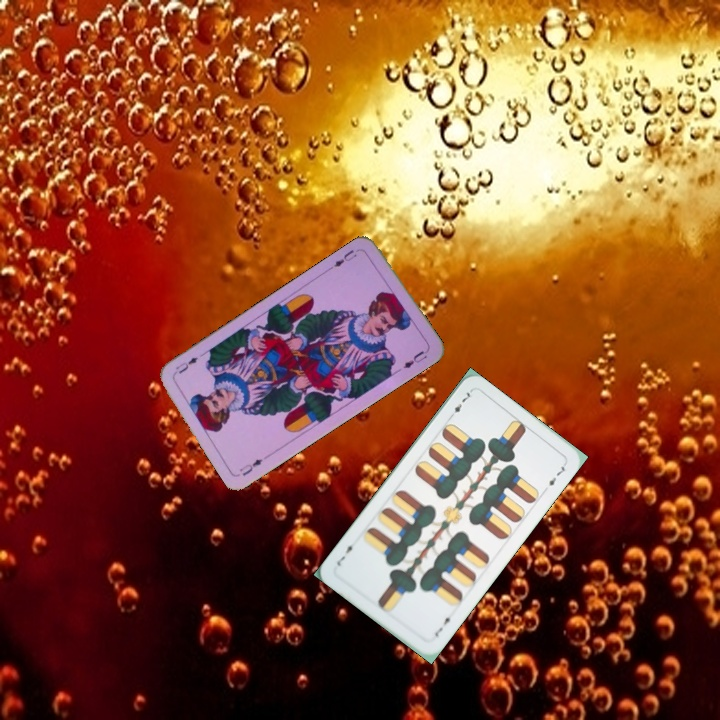E7: (445, 387, 475, 421), (430, 610, 456, 639)
EU: (330, 245, 359, 270), (235, 455, 265, 478)
